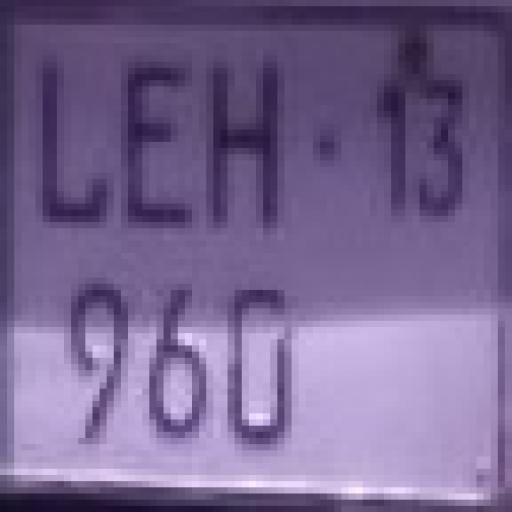0: (226, 281, 309, 458)
6: (142, 286, 214, 461)
9: (52, 270, 130, 456)
E: (127, 34, 195, 249)
H: (207, 53, 287, 251)
L: (24, 48, 124, 236)
